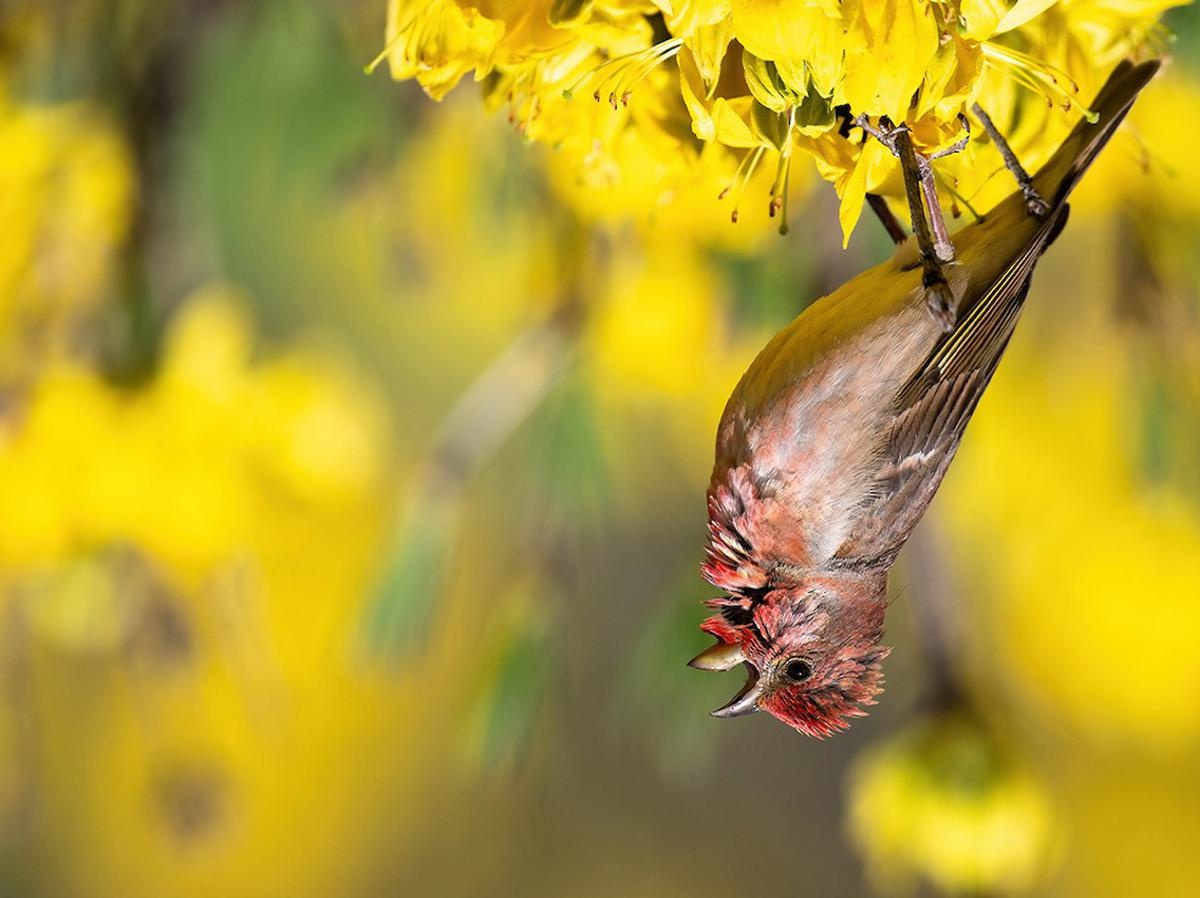rosefinch: (703, 131, 1085, 775)
